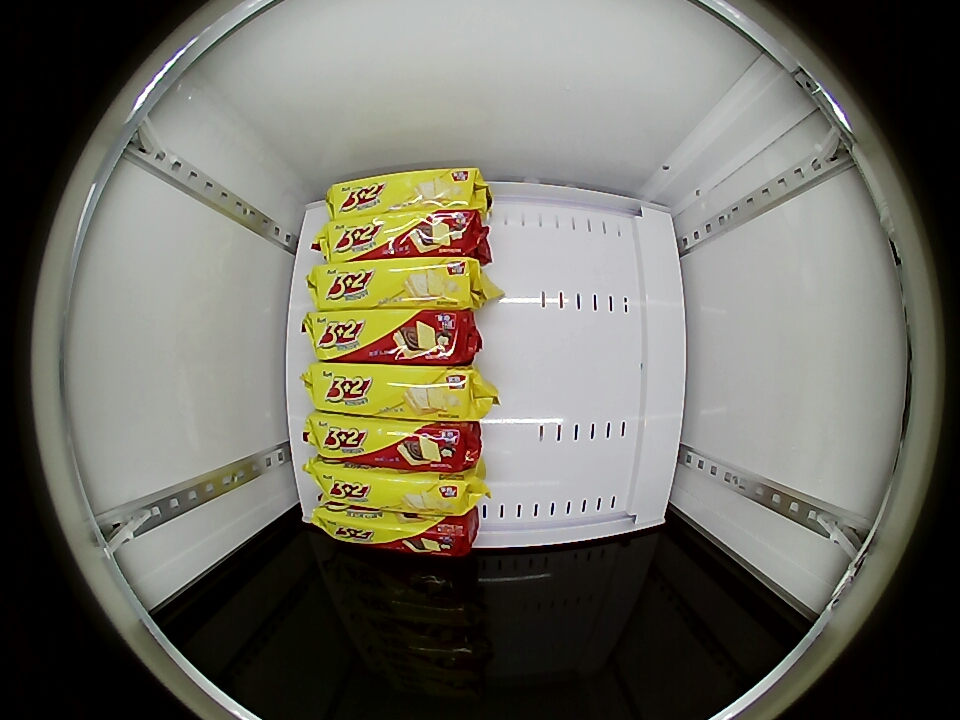3+2-2: (309, 364, 480, 418), (311, 257, 479, 310), (314, 463, 477, 513), (325, 168, 487, 217)
3jia2: (308, 415, 478, 469), (308, 310, 475, 364), (312, 506, 475, 556), (321, 209, 482, 259)
